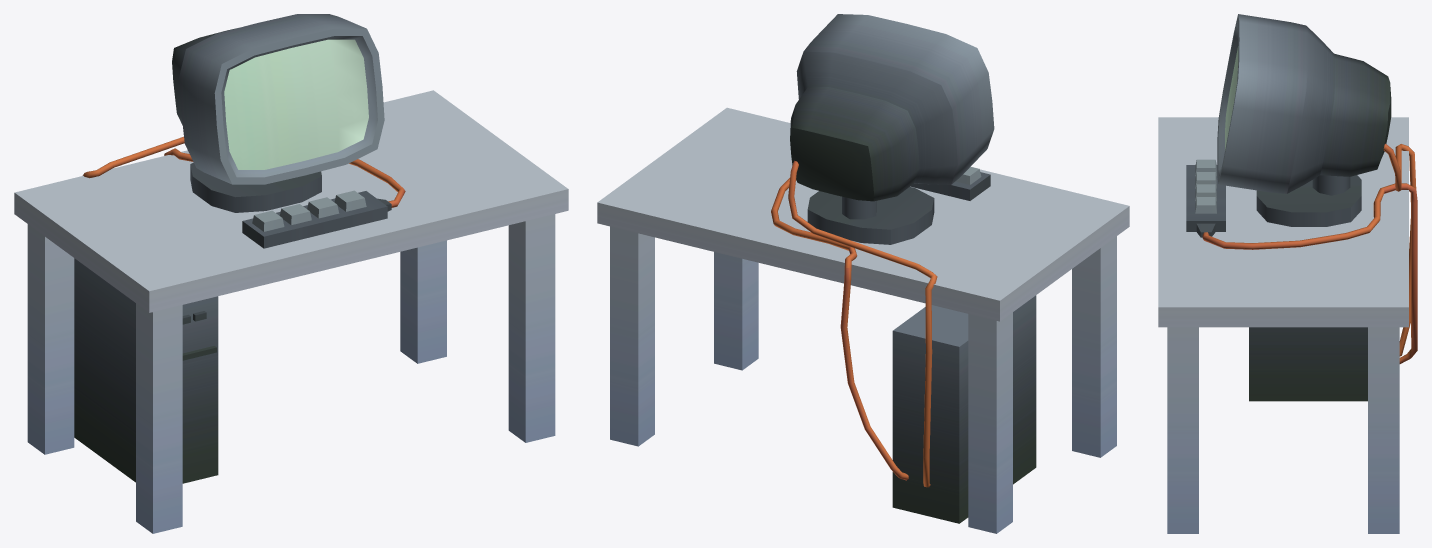
The model's file is table.fbx.
The picture shows the model from 3 angles, left to right: view 1: azimuth 30°, elevation 25°; view 2: azimuth 150°, elevation 25°; view 3: azimuth 270°, elevation 25°; orthographic projection. The views are drawn at different scales.
Visible parts, largest first — view 1: mesaPC; view 2: mesaPC; view 3: mesaPC.
Part boxes in pixels (x1,y1,x2,y2): mesaPC: (14,14,568,533); mesaPC: (597,14,1129,533); mesaPC: (1158,14,1417,533).
Size of the model in its own units: 133 by 129 by 76.81.
